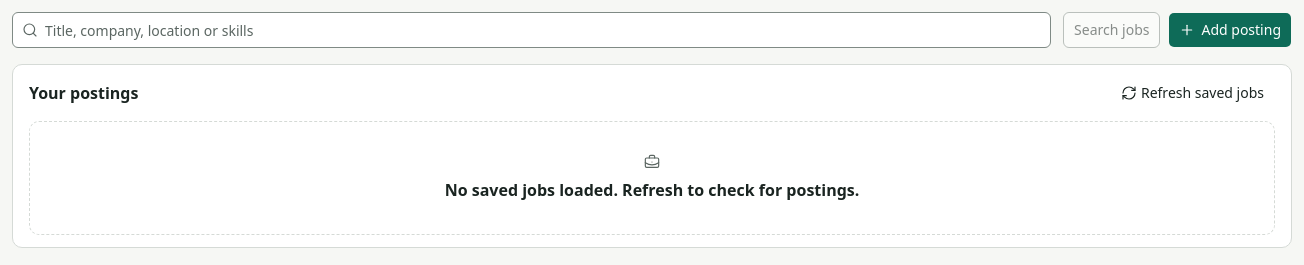
job service without a database › shows the unconfigured copy and disables the job controls
Click the button with test id "refreshJobsButton".
click(1192, 93)  # box 1110,77 -> 1275,109
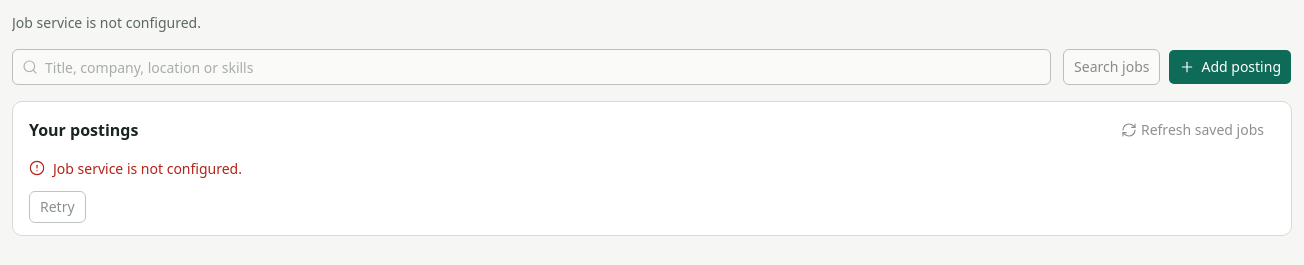
Check: the message with test id "jobStatusLabel" reads "Job service is not configured.", box 12,13 -> 201,32
Check: the button with test id "refreshJobsButton" is disabled, box 1110,114 -> 1275,146
Check: the field with test id "jobSearchInput" is disabled, box 12,49 -> 1051,85
